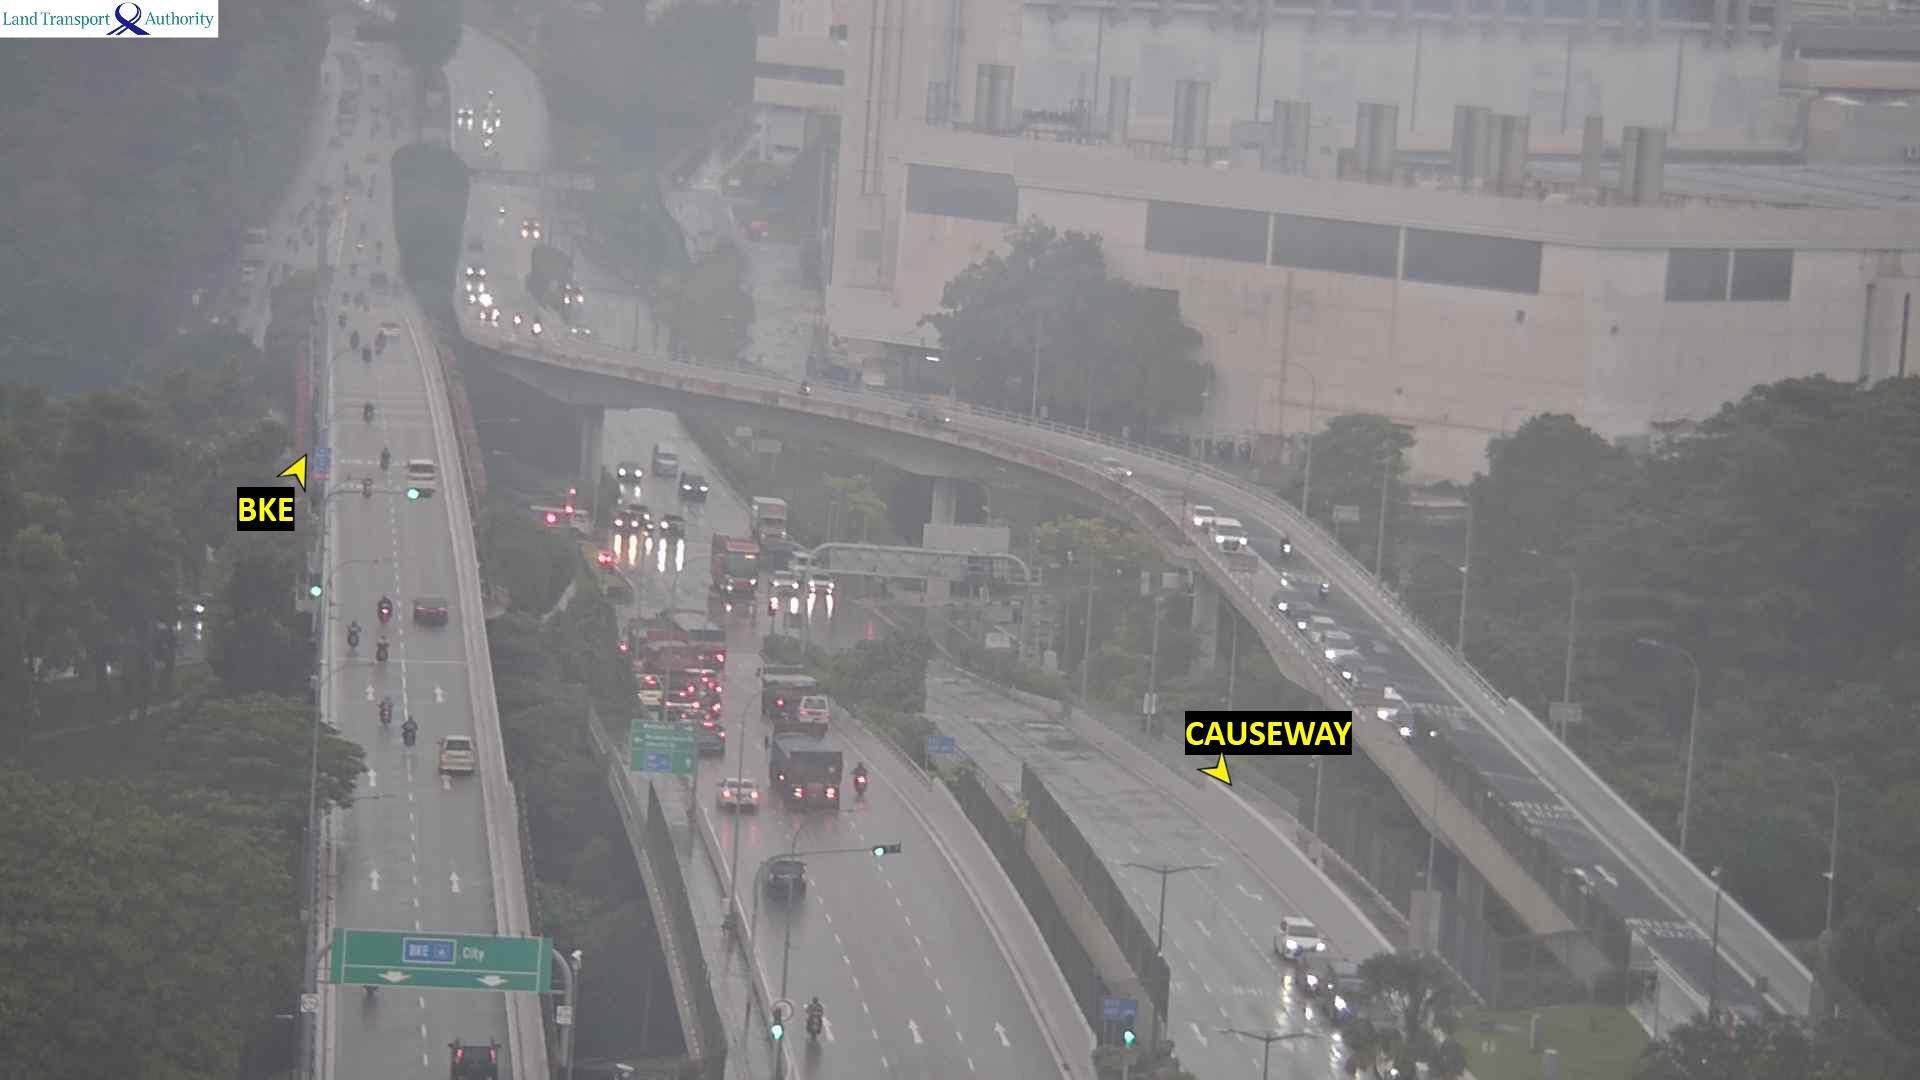vehicle-causeway-johor: (1271, 913, 1321, 956), (1208, 517, 1251, 559), (909, 400, 949, 426), (1095, 455, 1131, 479), (1188, 501, 1217, 530), (1273, 587, 1304, 609), (464, 261, 487, 281), (480, 306, 504, 324), (468, 291, 492, 306), (1317, 574, 1329, 599), (796, 378, 812, 393), (530, 318, 542, 336), (512, 310, 521, 330), (1280, 534, 1287, 556)
vehicle-causeway-singapore: (448, 1035, 498, 1080), (439, 735, 475, 774), (413, 593, 448, 622), (409, 459, 435, 492), (400, 716, 419, 748), (376, 692, 392, 725), (343, 618, 359, 649), (378, 593, 394, 621), (376, 633, 390, 662), (361, 396, 376, 422), (377, 446, 390, 467), (355, 295, 369, 313), (339, 303, 345, 334), (377, 327, 385, 349)
